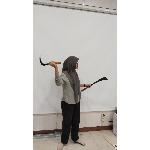Celurit: (38, 54, 62, 66)
Golok: (80, 76, 110, 92)
